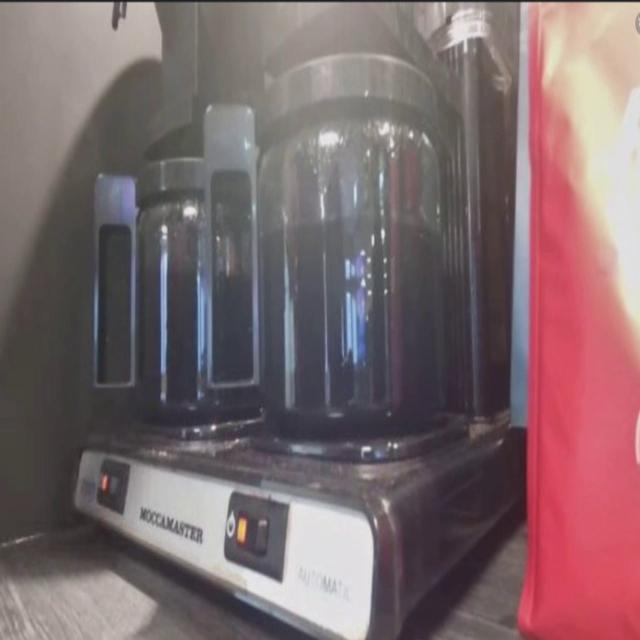coffee: (259, 54, 445, 428), (117, 150, 269, 429)
